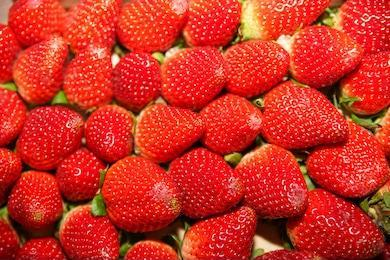Fresa: (281, 182, 388, 260), (257, 73, 352, 155), (94, 154, 184, 238), (232, 140, 313, 226), (166, 144, 246, 221), (10, 102, 89, 172), (286, 21, 365, 90), (154, 41, 230, 112), (216, 36, 295, 101), (178, 200, 259, 260), (195, 89, 265, 158), (7, 34, 69, 109), (134, 100, 206, 163), (61, 44, 121, 113), (4, 168, 65, 235), (114, 1, 189, 55), (57, 202, 123, 260), (84, 102, 143, 164), (109, 49, 166, 113)
